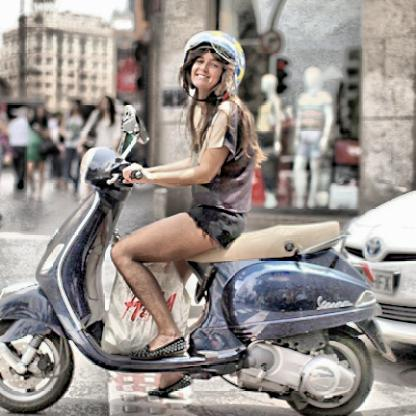wear: (182, 30, 244, 106)
